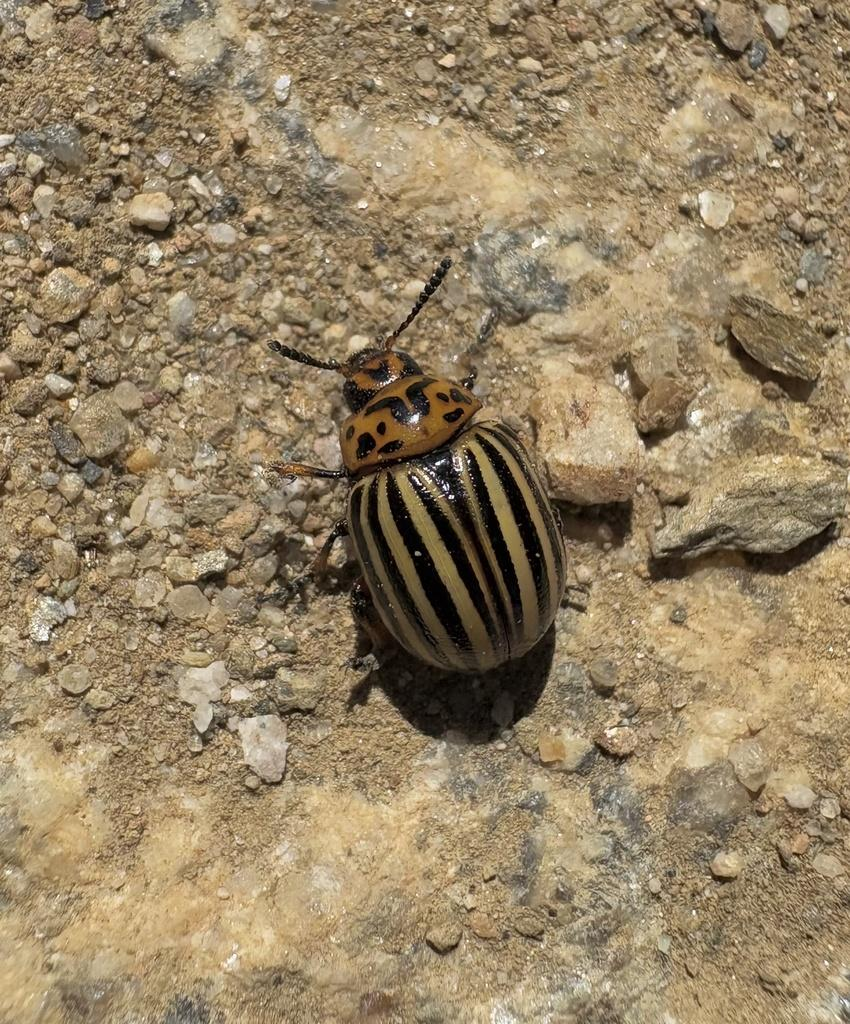potato_beetle: (189, 223, 661, 768)
